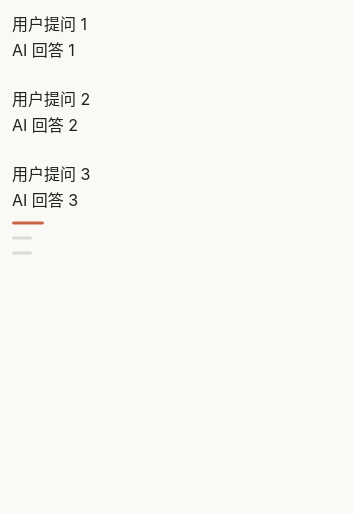
Scenario: TurnRailNav 轮次导航 › 悬停出预览后 Escape：关闭、焦点恢复到线，且不因程序性焦点恢复立即重开
Hover over the 2nd button with class "turn-rail__tick" at (22, 238), box [12, 236, 32, 239]
Wait 501 ms
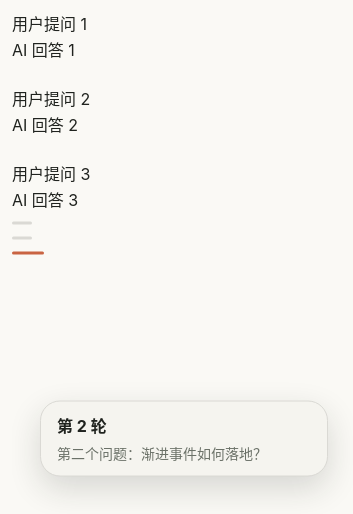
Check: the tooltip with class "turn-rail__preview" is shown, box [40, 400, 328, 477]
Press Escape
Wait 600 ms
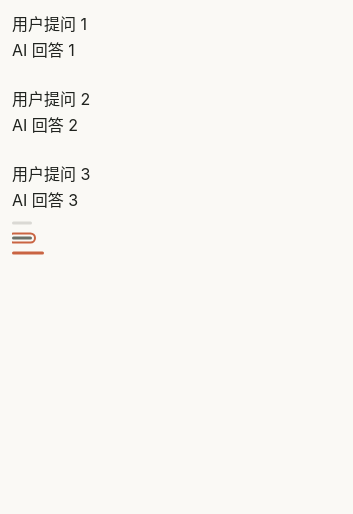
Check: the tooltip with class "turn-rail__preview" is gone
用户主动移入仍可正常打开预览（抑制是一次性的）
Hover over the 2nd button with class "turn-rail__tick" at (22, 238), box [12, 236, 32, 239]
Wait 501 ms
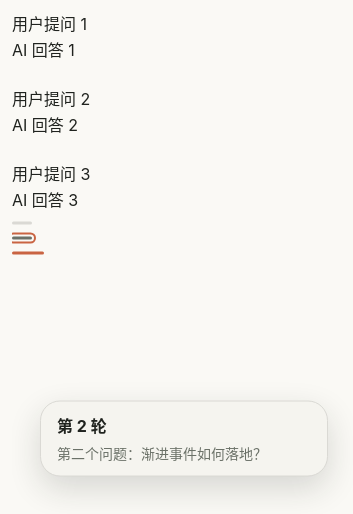
Check: the tooltip with class "turn-rail__preview" is shown, box [40, 400, 328, 477]
